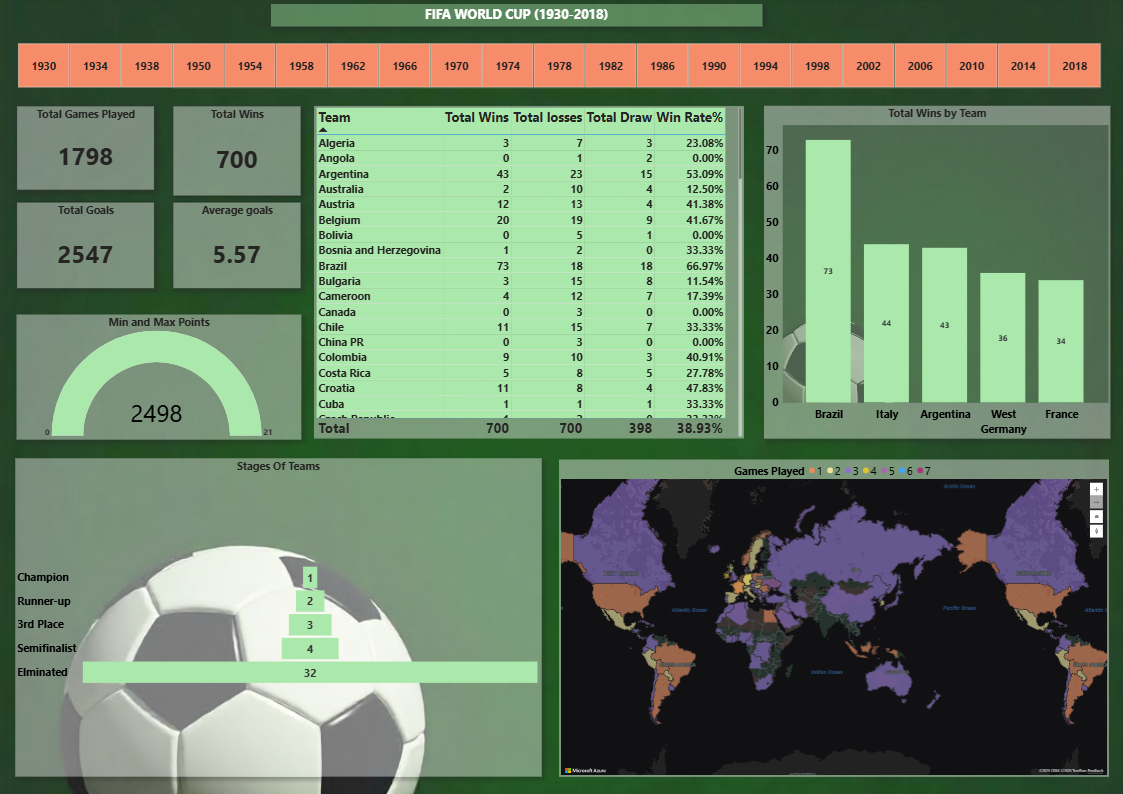

What the dashboard file says about the page in this screenshot:
{"tool":"powerbi","page":{"name":"Dashbord","canvas":[2790,2000],"ordinal":0},"visuals":[{"type":"card","title":"Total Goals","fields":{"Values":["FIFA POwerBI project.Total goals"]},"box":[42.4,509.4,342.6,215.3],"z":0},{"type":"textbox","box":[674.1,14.8,1222.2,59.3],"z":1000},{"type":"card","title":"Total Wins","fields":{"Values":["FIFA POwerBI project.Total Wins"]},"box":[430.6,269.9,318.4,224.4],"z":2000},{"type":"card","title":"Average goals","fields":{"Values":["FIFA POwerBI project.avg goals"]},"box":[430.6,509.4,318.4,215.3],"z":3000},{"type":"card","title":"Total Games Played","fields":{"Values":["FIFA POwerBI project.Total Games Played"]},"box":[42.4,269.9,342.6,209.2],"z":4000},{"type":"slicer","fields":{"Values":["FIFA POwerBI project.Years"]},"box":[22.2,107.4,2733.3,122.2],"z":5000},{"type":"filledMap","fields":{"Category":["FIFA POwerBI project.Team"],"Series":["FIFA POwerBI project.Games Played"]},"box":[1392.6,1144.4,1363,788.9],"z":6000},{"type":"tableEx","fields":{"Values":["FIFA POwerBI project.Team","FIFA POwerBI project.Total Wins","FIFA POwerBI project.Total losses","Sum(FIFA POwerBI project.Draw)","FIFA POwerBI project.Win RAte%"]},"box":[781.5,270.4,1066.7,825.9],"z":7000},{"type":"columnChart","fields":{"Category":["FIFA POwerBI project.Team"],"Y":["FIFA POwerBI project.Total Wins"]},"box":[1896.3,270.4,859.3,825.9],"z":8000},{"type":"gauge","title":" Min and Max Points","fields":{"Y":["WinPoints.Adjected Values"],"MinValue":["WinPoints.Minpoints"],"MaxValue":["WinPoints.Maxpoints"],"TargetValue":["WinPoints.Adjected Values"]},"box":[43.1,787,706.6,310.2],"z":9000},{"type":"funnel","title":"Stages Of Teams","fields":{"Category":["FIFA POwerBI project.Stage"],"Y":["FIFA POwerBI project.Max Poistion"]},"box":[41.1,1144.5,1305.4,789.2],"z":10001}]}

Visuals, with their boxes in screenshot pixels (x1, y1, x2, y2), scaled from the page's 2790x2000 canvas onto the 1123x794 screenshot:
"Total Goals" card: pyautogui.locateOnScreen(17, 202, 155, 288)
textbox: pyautogui.locateOnScreen(271, 6, 763, 29)
"Total Wins" card: pyautogui.locateOnScreen(173, 107, 301, 196)
"Average goals" card: pyautogui.locateOnScreen(173, 202, 301, 288)
"Total Games Played" card: pyautogui.locateOnScreen(17, 107, 155, 190)
slicer - FIFA POwerBI project.Years: pyautogui.locateOnScreen(9, 43, 1109, 91)
filledMap - FIFA POwerBI project.Team x FIFA POwerBI project.Games Played: pyautogui.locateOnScreen(561, 454, 1109, 768)
tableEx - FIFA POwerBI project.Team x FIFA POwerBI project.Total Wins: pyautogui.locateOnScreen(315, 107, 744, 435)
columnChart - FIFA POwerBI project.Team x FIFA POwerBI project.Total Wins: pyautogui.locateOnScreen(763, 107, 1109, 435)
" Min and Max Points" gauge: pyautogui.locateOnScreen(17, 312, 302, 436)
"Stages Of Teams" funnel: pyautogui.locateOnScreen(17, 454, 542, 768)
